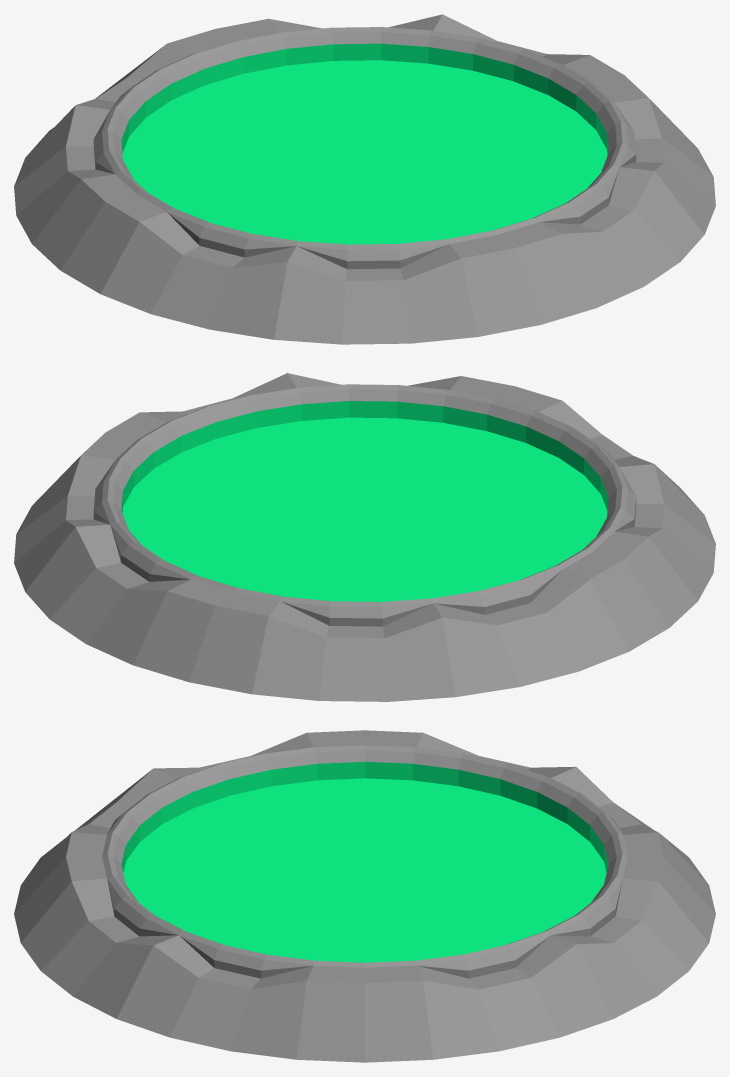
The model's file is teleportPlatform.fbx.
The picture shows the model from 3 angles, top to bottom: view 1: azimuth 30°, elevation 25°; view 2: azimuth 150°, elevation 25°; view 3: azimuth 270°, elevation 25°; orthographic projection.
Parts seen in each view (by area): view 1: Cylinder; view 2: Cylinder; view 3: Cylinder.
Boxes of the visible parts, left/top/right/bottom form: Cylinder: left=14, top=14, right=715, bottom=344; Cylinder: left=14, top=373, right=715, bottom=701; Cylinder: left=14, top=730, right=715, bottom=1062.
Size of the model in its own units: 200 by 18.97 by 200.
